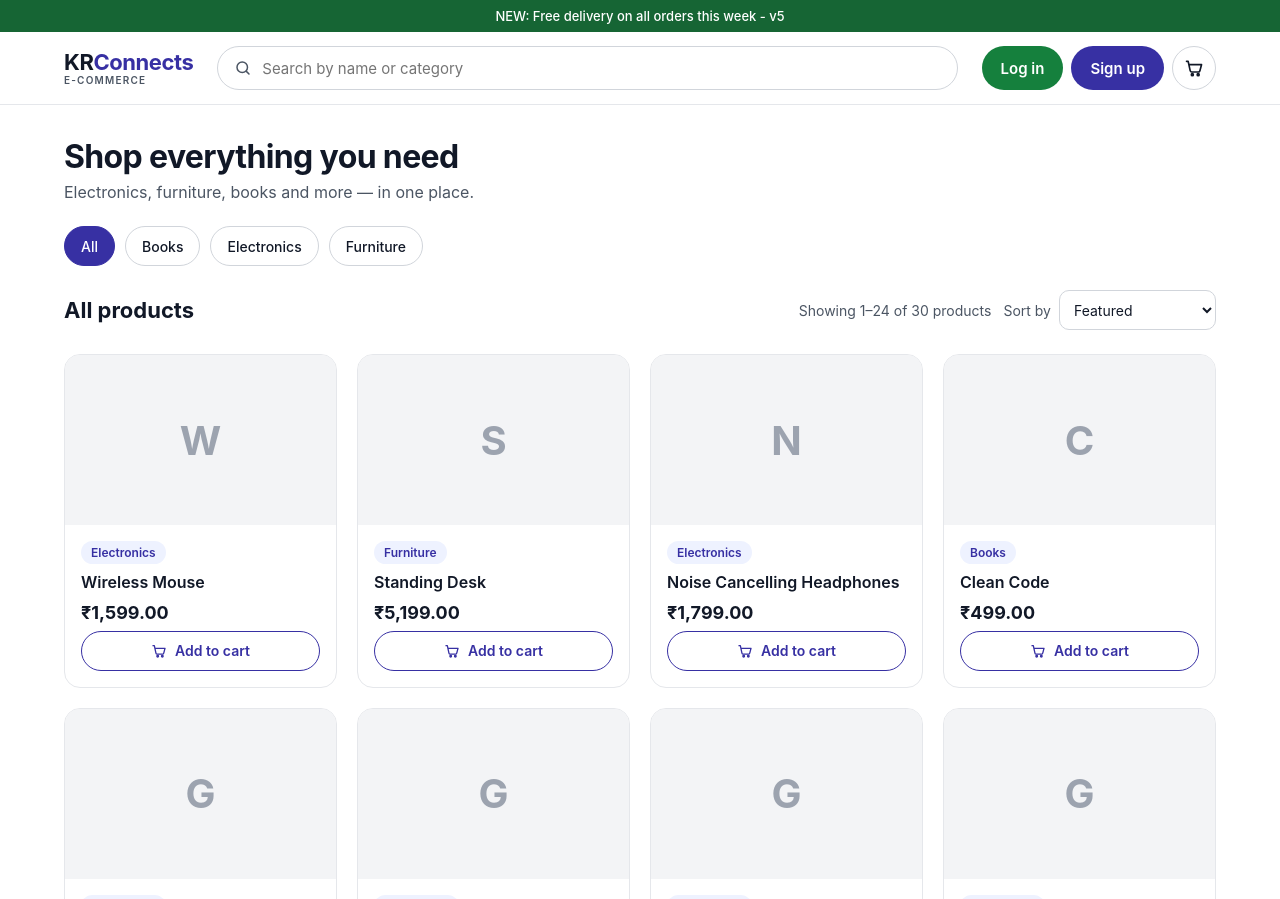
SearchBox (search suggestions) › shows suggestions with category and price after typing 2+ letters
Check: the link "Wireless Mouse" is shown, box x1=81 y1=572 x2=205 y2=592
In the dropdown with placeholder "Search by name or category": (600, 68) x1=260 y1=58 x2=940 y2=78, type "desk"
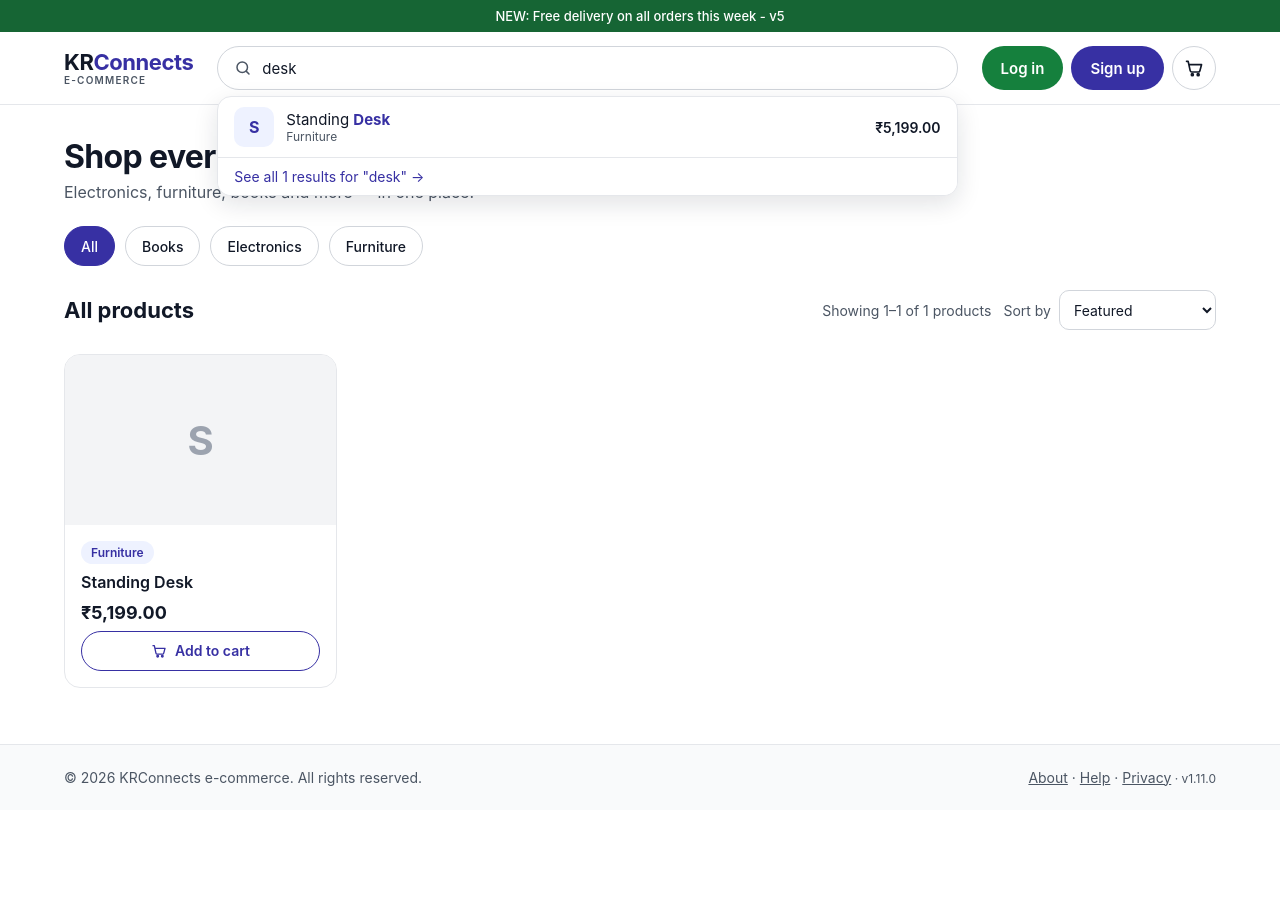
Check: the option shows "Standing Desk", box x1=218 y1=97 x2=956 y2=158
Check: the option shows "Furniture", box x1=218 y1=97 x2=956 y2=158
Check: the option shows "₹5,199.00", box x1=218 y1=97 x2=956 y2=158
